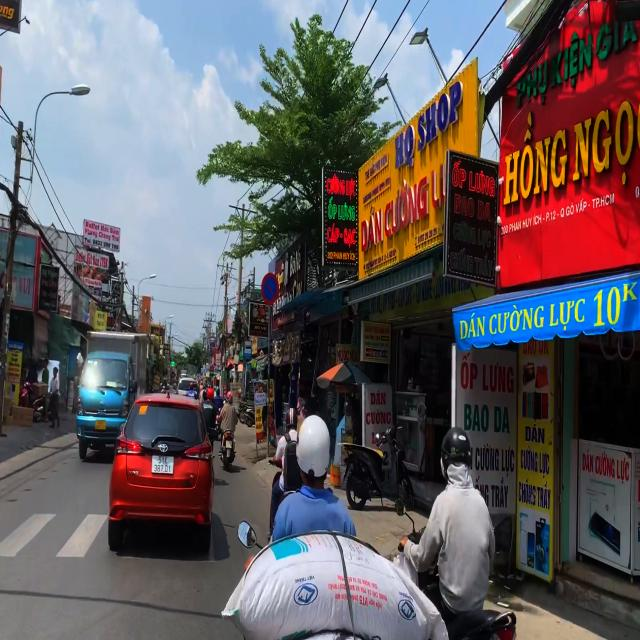Cam do: (261, 273, 279, 306)
